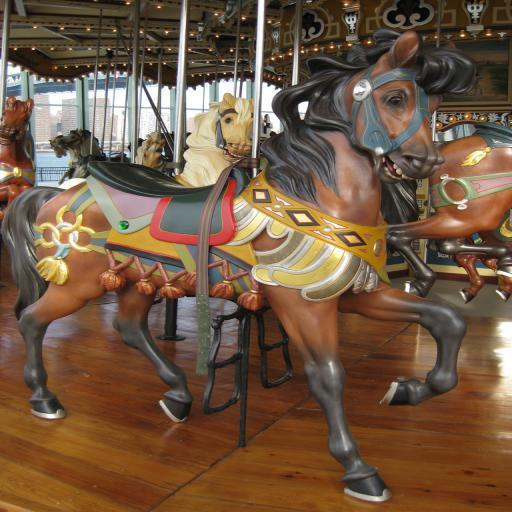horse: (0, 25, 512, 503)
